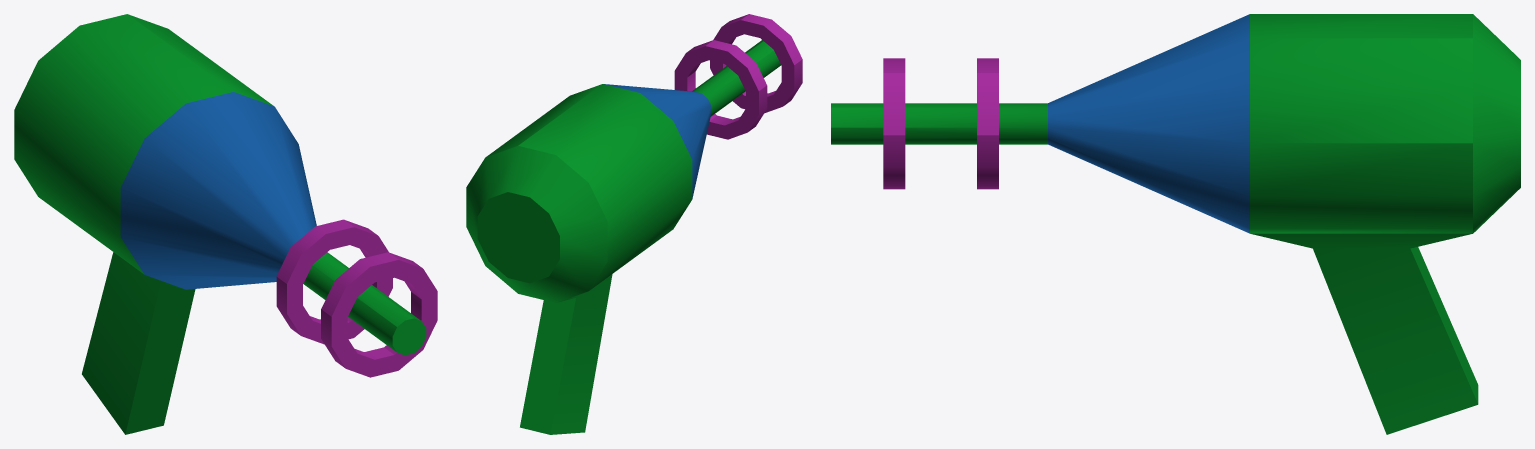
The model's file is raygun.fbx.
3 views of the same model, side by side, from view 1: azimuth 30°, elevation 25°; view 2: azimuth 150°, elevation 25°; view 3: azimuth 270°, elevation 25° (orthographic). The views are drawn at different scales.
Visible parts, largest first — view 1: business-head.001; view 2: business-head.001; view 3: business-head.001.
Part boxes in pixels (box(x1,y1,x2,y2)): business-head.001: box(14, 14, 437, 434); business-head.001: box(466, 14, 802, 434); business-head.001: box(831, 14, 1520, 434).
Bounding box in the file's own units: 29.5 × 60.25 × 94.43.
